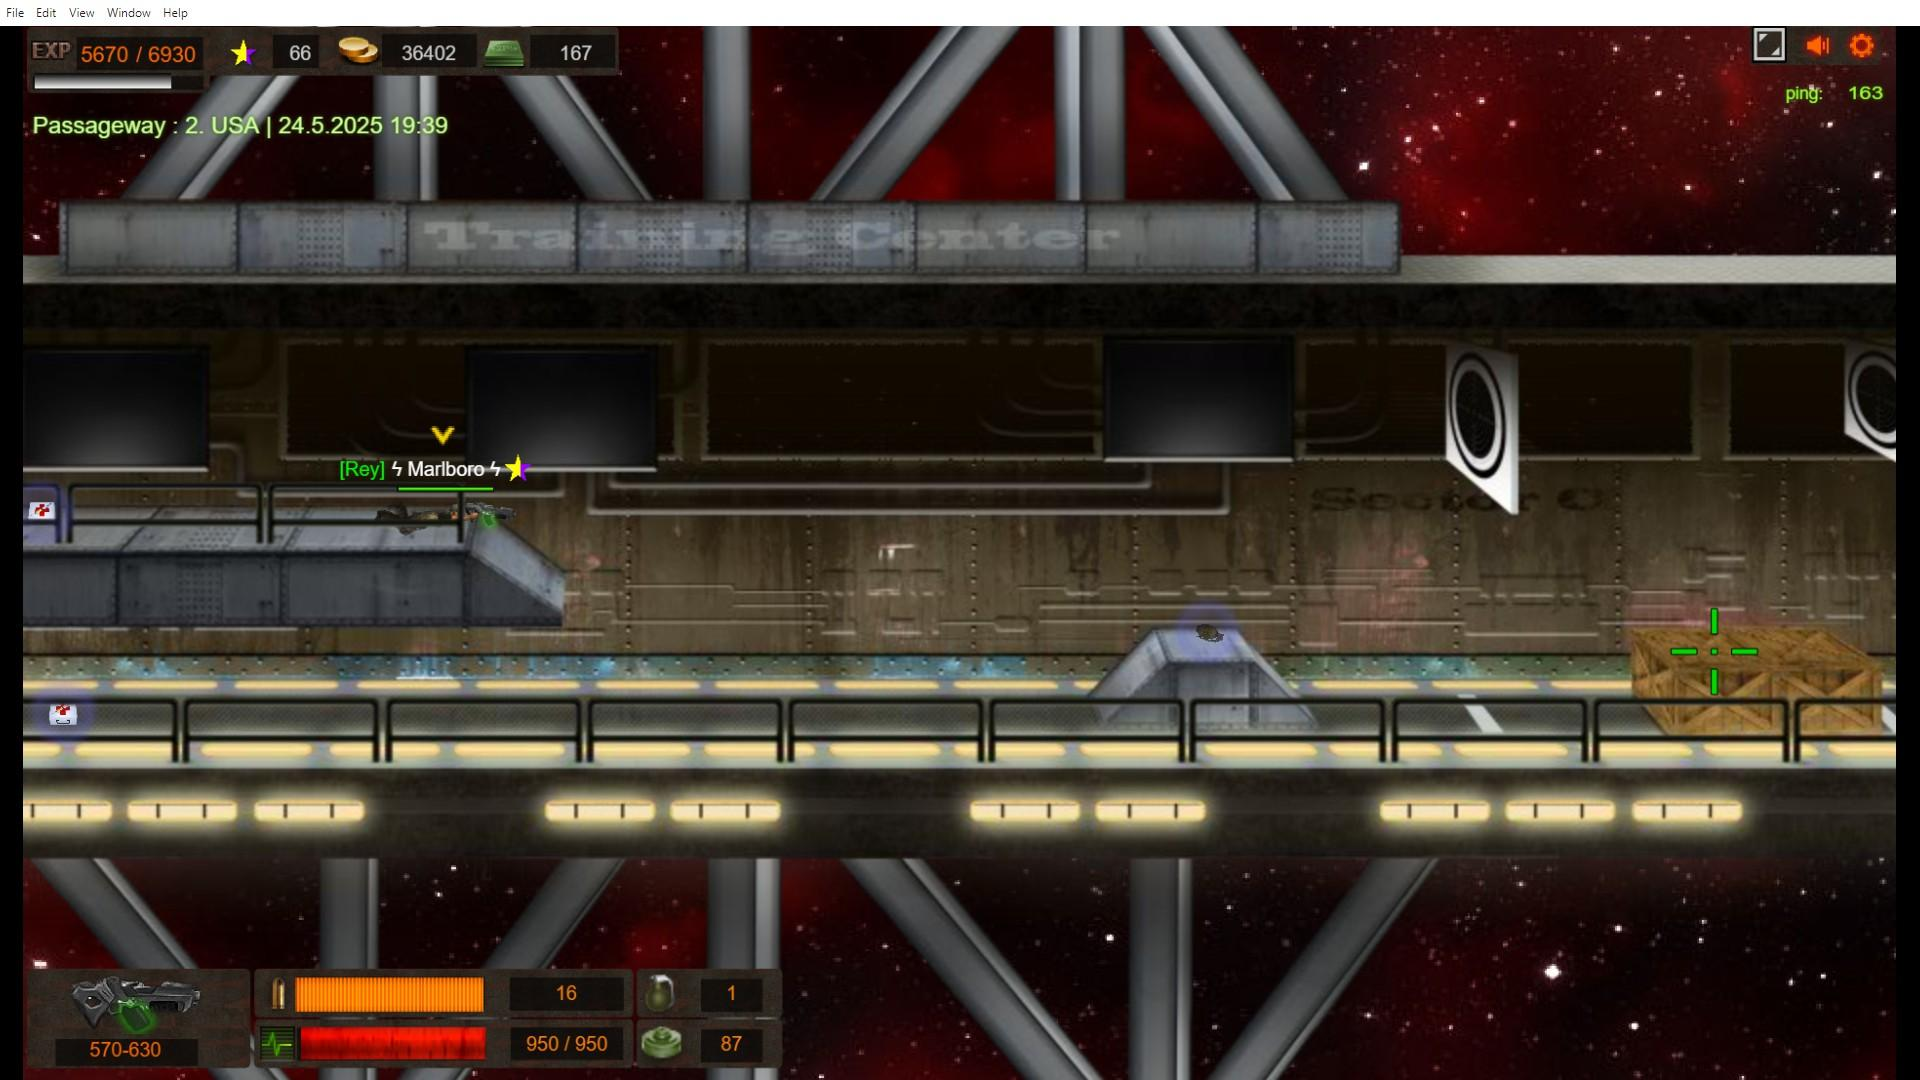enemy: (376, 506, 476, 533)
